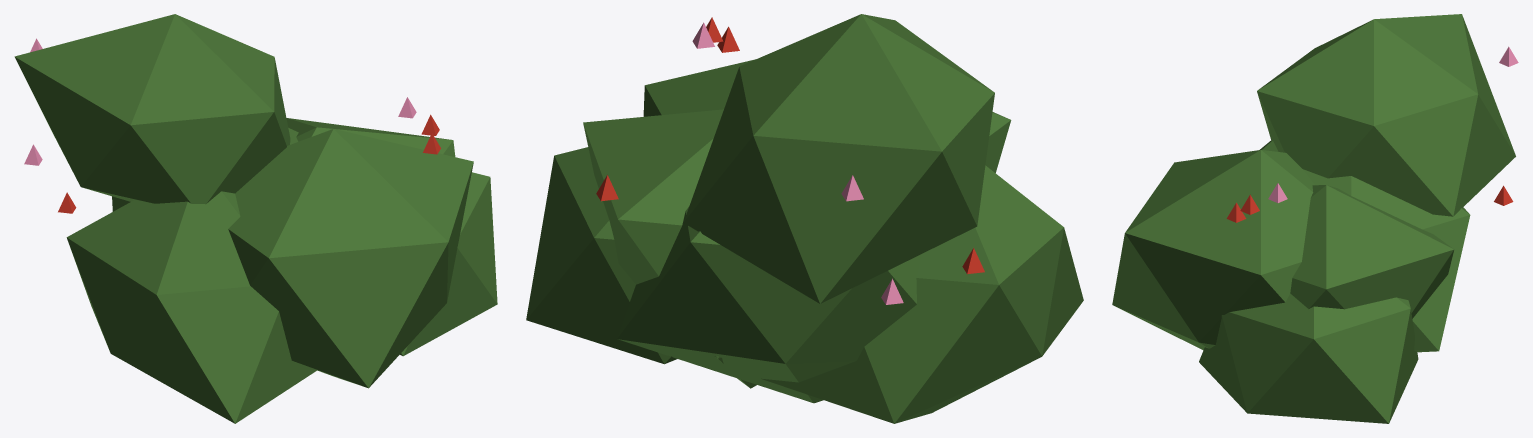
The model's file is nypon_2.glb.
The picture shows the model from 3 angles, left to right: view 1: azimuth 30°, elevation 25°; view 2: azimuth 150°, elevation 25°; view 3: azimuth 270°, elevation 25°; orthographic projection. The views are drawn at different scales.
Visible parts, largest first — view 1: nypon_2; view 2: nypon_2; view 3: nypon_2.
Part boxes in pixels (x1,y1,x2,y2): nypon_2: [14, 14, 497, 423]; nypon_2: [526, 14, 1083, 423]; nypon_2: [1112, 14, 1518, 423].
Size of the model in its own units: 1.79 by 1.52 by 1.72.
